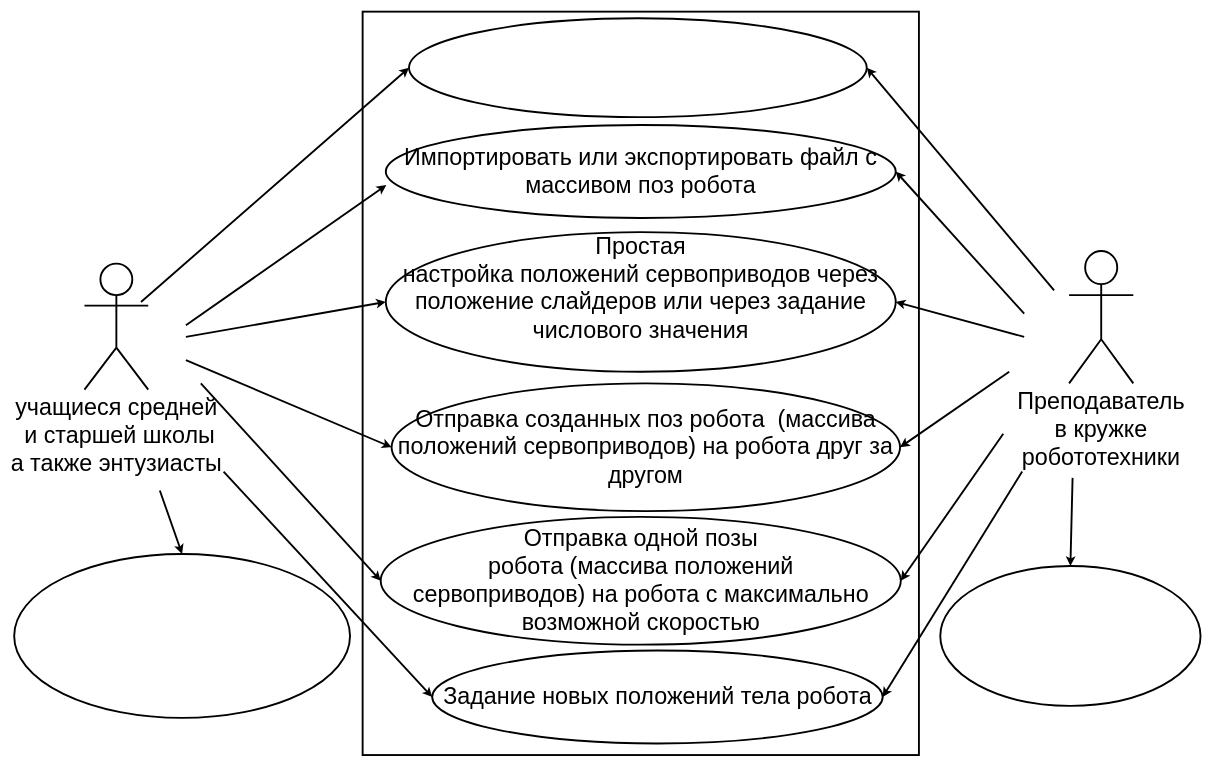
Image size: 1212x767. Some labels were removed from this diagram. Each missing label, with the centre of its shape:
"Отладка движений робота" belongs at pixel 637 67.
"Отправка сохраненных поз робота на сервер для проверки преподавателем" belongs at pixel 182 635.
"Получения файла с позами робота с сервера" belongs at pixel 1070 635.
